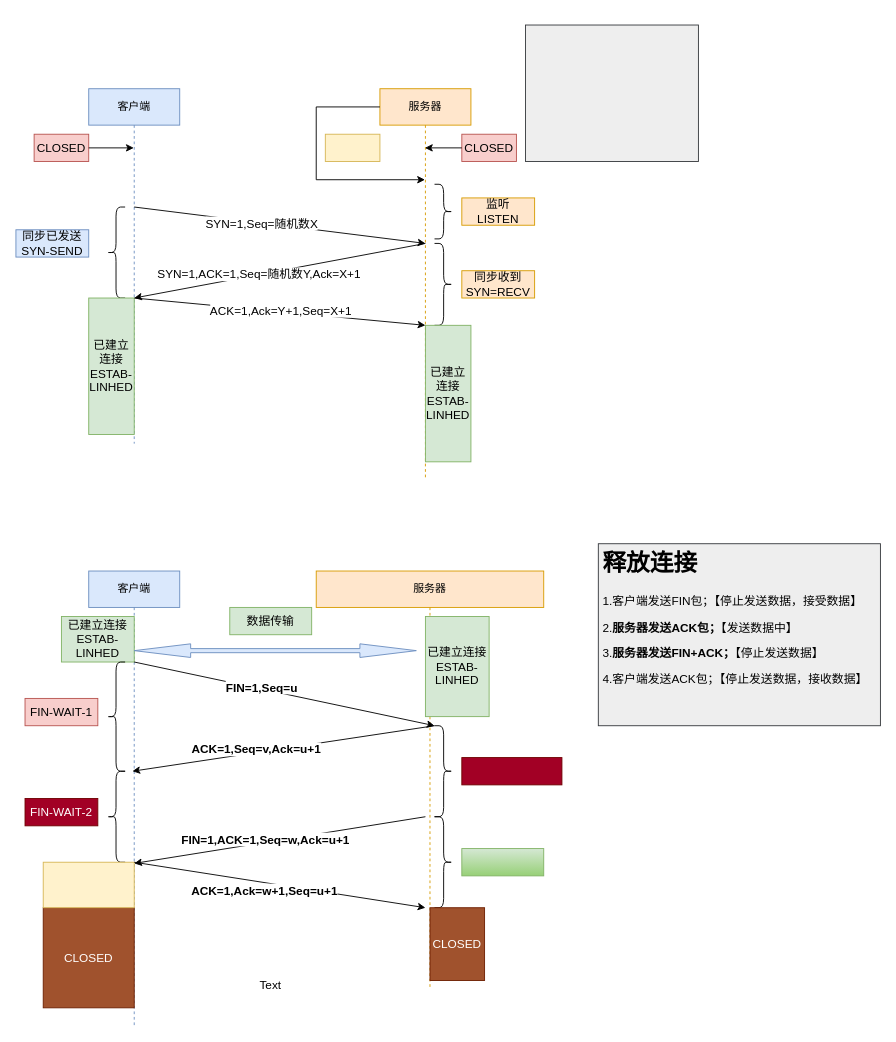
Image size: 896x1042. Some labels were removed from this diagram. The shapes that lost their labels are listed below. From the top down, each one's box as (x1, y1, x2, y2) in pixels, then its label:
(525, 24, 698, 162): 建立连接 1.客户端发送SYN包； 2.服务器发送SYN+ACK包； 3.客户端发送ACK包；
(324, 133, 380, 162): 被动打开
(461, 757, 562, 785): CLOSED-WAIT
(461, 848, 544, 876): 最后确认 LAST-ACK
(42, 861, 134, 908): 时间等待 TIME-WAIT (2mills)
